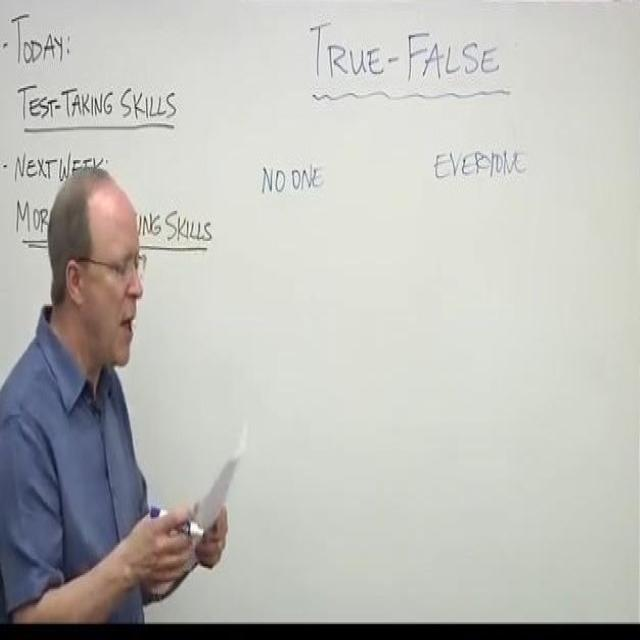Instructor: (0, 140, 178, 608)
White-board: (0, 0, 640, 619)
